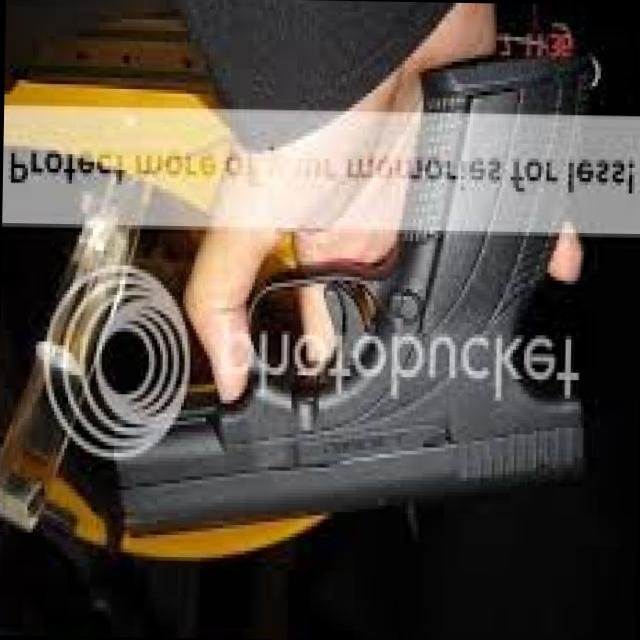Gun: (93, 21, 611, 572)
